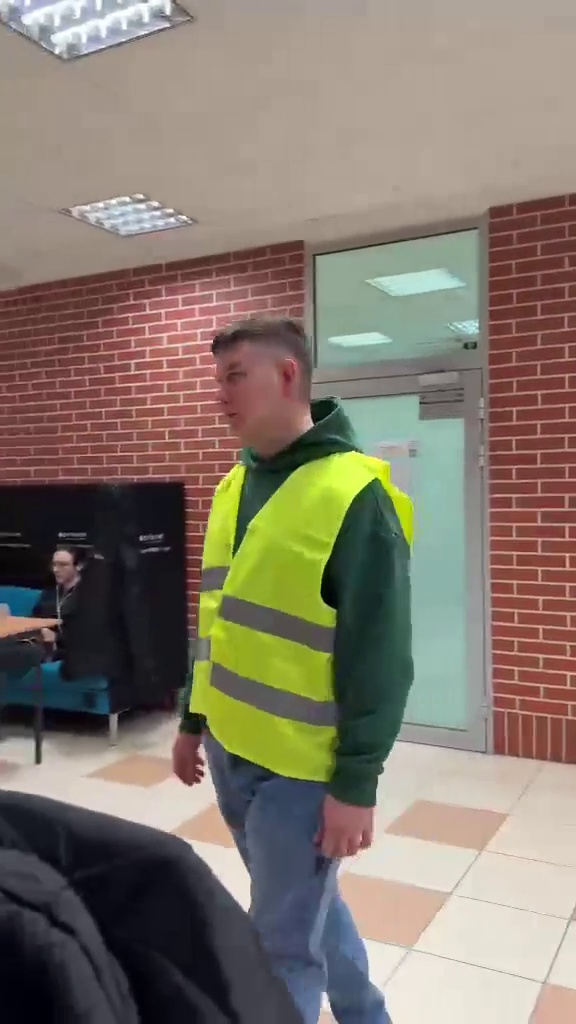vest: (175, 317, 405, 1021)
